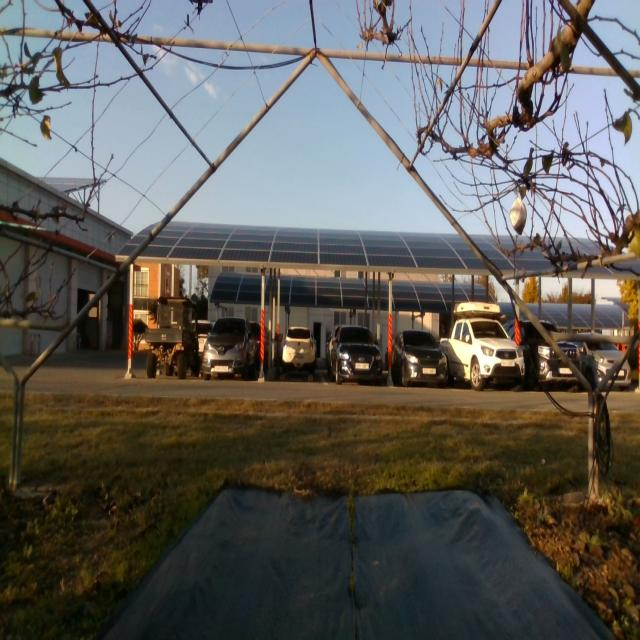pearbags: (509, 198, 526, 235)
